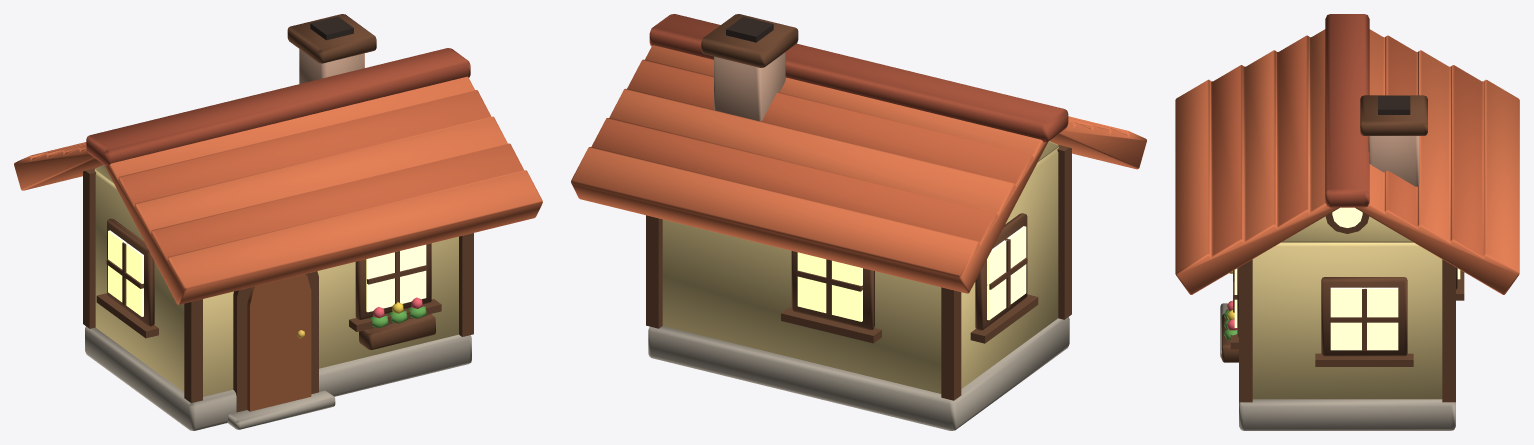
File: v_cottage.glb
The picture shows the model from 3 angles, left to right: view 1: azimuth 30°, elevation 25°; view 2: azimuth 150°, elevation 25°; view 3: azimuth 270°, elevation 25°; orthographic projection. The views are drawn at different scales.
Visible parts, largest first — view 1: Cottage; view 2: Cottage; view 3: Cottage.
Part boxes in pixels (x1=…): Cottage: x1=14, y1=14, x2=542, y2=430; Cottage: x1=571, y1=14, x2=1146, y2=430; Cottage: x1=1175, y1=14, x2=1519, y2=430.
Size of the model in its own units: 5 by 3.89 by 4.06.
